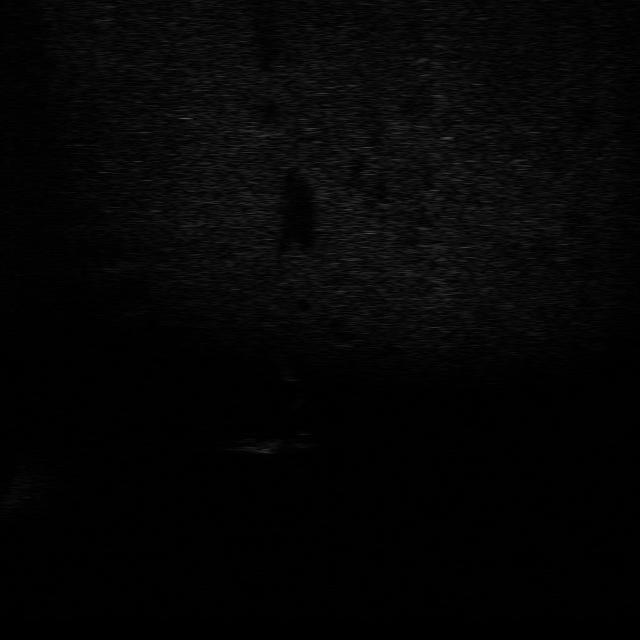ball: (280, 430, 319, 450)
human body: (265, 340, 311, 414)
square cage: (227, 432, 285, 457)
